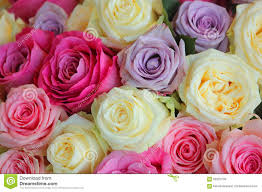lale: (179, 44, 261, 124), (34, 27, 121, 87), (121, 30, 187, 93), (96, 95, 165, 147), (120, 42, 184, 90), (5, 83, 64, 134), (0, 24, 45, 88), (159, 117, 208, 175), (49, 125, 105, 174), (82, 0, 153, 37), (214, 125, 262, 179), (174, 0, 232, 39)
